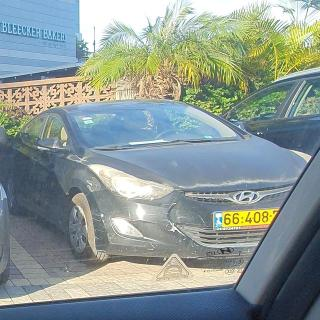LicensePlate: (222, 209, 283, 227)
